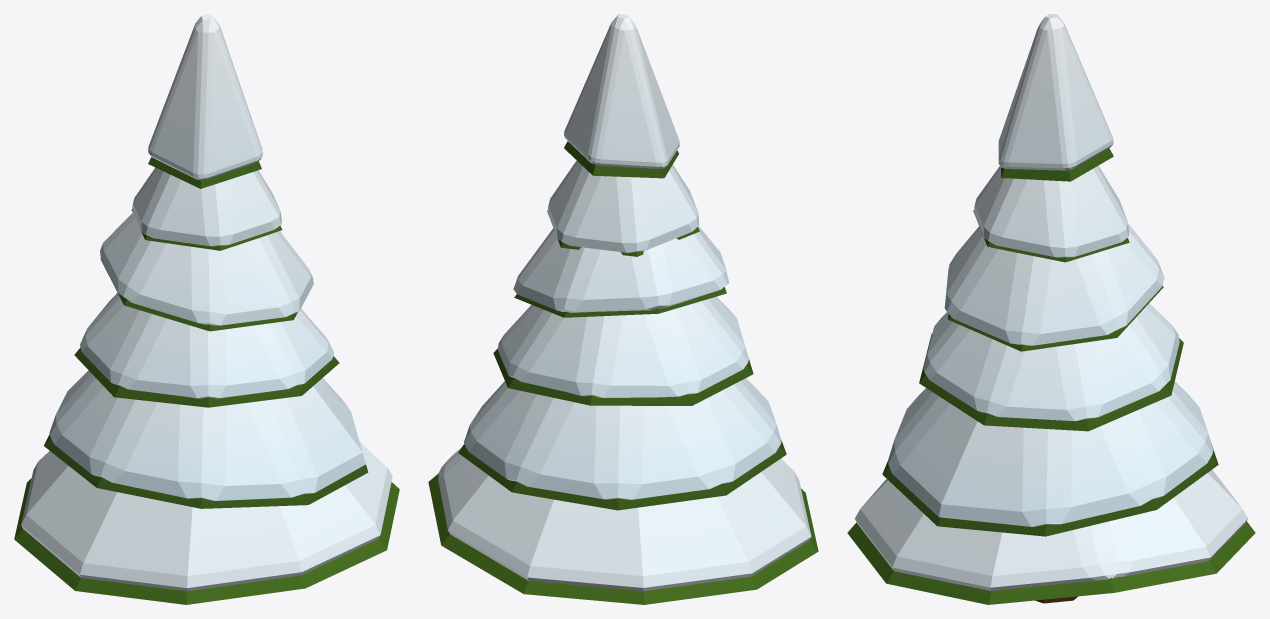
File: sapin3_complet.fbx
3 renders of one model, left to right at view 1: azimuth 30°, elevation 25°; view 2: azimuth 150°, elevation 25°; view 3: azimuth 270°, elevation 25°, orthographic. The views are drawn at different scales.
Visible parts, largest first — view 1: Cone.046, Cone.047, Cone.048, Cone.049, Cone.045, Cone.050, Cone.029, Cone.030, Cone.031, Cone.032, Cone.028, Cone.033; view 2: Cone.046, Cone.047, Cone.048, Cone.049, Cone.045, Cone.050, Cone.029, Cone.030, Cone.031, Cone.028, Cone.032; view 3: Cone.047, Cone.046, Cone.048, Cone.049, Cone.045, Cone.050, Cone.029, Cone.030, Cone.031, Cone.028, Cone.032, Cone.033.
Part boxes in pixels (left/top/right/bottom): Cone.046: left=21, top=443, right=392, bottom=591; Cone.047: left=49, top=370, right=365, bottom=500; Cone.048: left=80, top=293, right=333, bottom=398; Cone.049: left=100, top=212, right=313, bottom=325; Cone.045: left=148, top=14, right=262, bottom=180; Cone.050: left=132, top=167, right=281, bottom=246; Cone.029: left=14, top=478, right=399, bottom=604; Cone.030: left=44, top=434, right=368, bottom=508; Cone.031: left=74, top=347, right=339, bottom=407; Cone.032: left=100, top=259, right=297, bottom=331; Cone.028: left=148, top=157, right=261, bottom=188; Cone.033: left=131, top=209, right=282, bottom=250; Cone.046: left=438, top=448, right=811, bottom=591; Cone.047: left=464, top=378, right=781, bottom=499; Cone.048: left=497, top=296, right=748, bottom=397; Cone.049: left=513, top=226, right=729, bottom=312; Cone.045: left=564, top=14, right=679, bottom=168; Cone.050: left=547, top=160, right=698, bottom=252; Cone.029: left=428, top=473, right=818, bottom=604; Cone.030: left=458, top=440, right=786, bottom=510; Cone.031: left=493, top=348, right=753, bottom=405; Cone.028: left=564, top=141, right=678, bottom=178; Cone.032: left=514, top=287, right=726, bottom=317; Cone.047: left=888, top=381, right=1213, bottom=526; Cone.046: left=854, top=469, right=1247, bottom=590; Cone.048: left=923, top=303, right=1179, bottom=421; Cone.049: left=944, top=224, right=1164, bottom=345; Cone.045: left=998, top=14, right=1113, bottom=170; Cone.050: left=974, top=165, right=1128, bottom=257; Cone.029: left=847, top=521, right=1255, bottom=604; Cone.030: left=882, top=443, right=1218, bottom=536; Cone.031: left=919, top=333, right=1183, bottom=431; Cone.028: left=1001, top=148, right=1113, bottom=181; Cone.032: left=948, top=285, right=1163, bottom=351; Cone.033: left=973, top=210, right=1129, bottom=262.
Size of the model in its own units: 6.86 by 11.18 by 7.21.
Materials: 1 (1 with a texture image).
